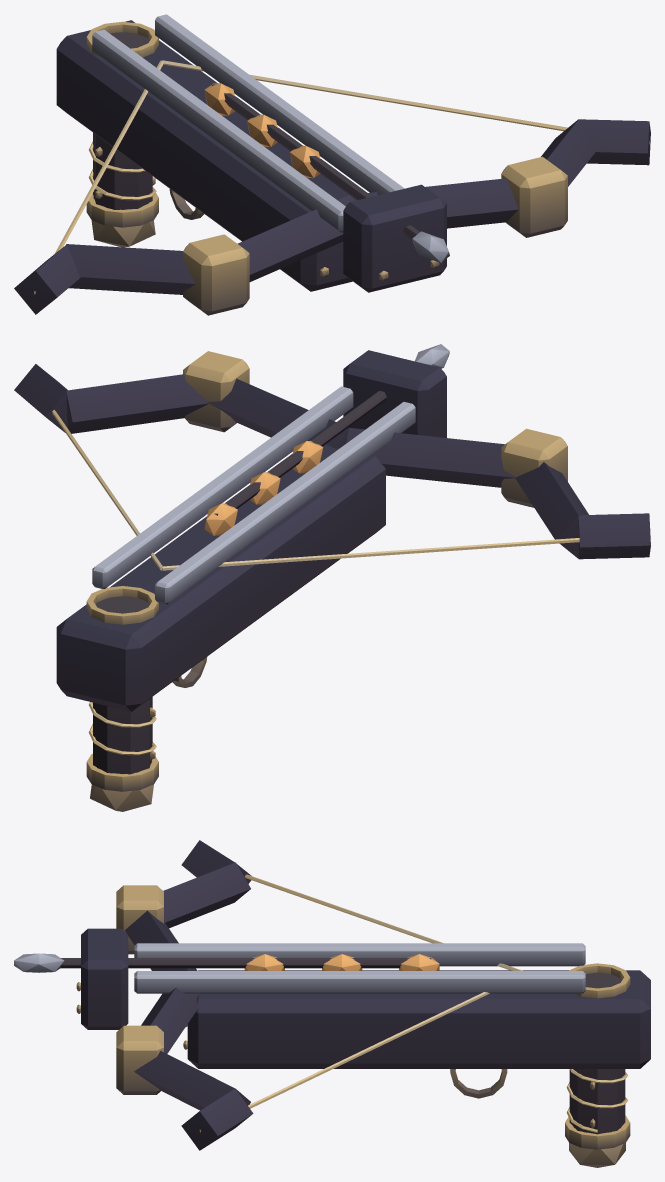
File: ballesta_riel_cenital.glb
The picture shows the model from 3 angles, top to bottom: view 1: azimuth 30°, elevation 25°; view 2: azimuth 150°, elevation 25°; view 3: azimuth 270°, elevation 25°; orthographic projection. The views are drawn at different scales.
Visible parts, largest first — view 1: ballesta_riel_cenital_finished; view 2: ballesta_riel_cenital_finished; view 3: ballesta_riel_cenital_finished.
Boxes of the visible parts, x1=… form: ballesta_riel_cenital_finished: x1=14, y1=14, x2=650, y2=315; ballesta_riel_cenital_finished: x1=14, y1=344, x2=650, y2=811; ballesta_riel_cenital_finished: x1=14, y1=840, x2=650, y2=1167.
Bounding box in the file's own units: 1.12 × 0.4155 × 1.07.
Materials: 2 (2 with a texture image).
